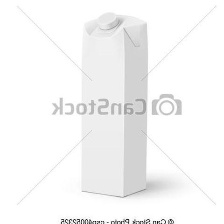carton: (76, 7, 155, 198)
